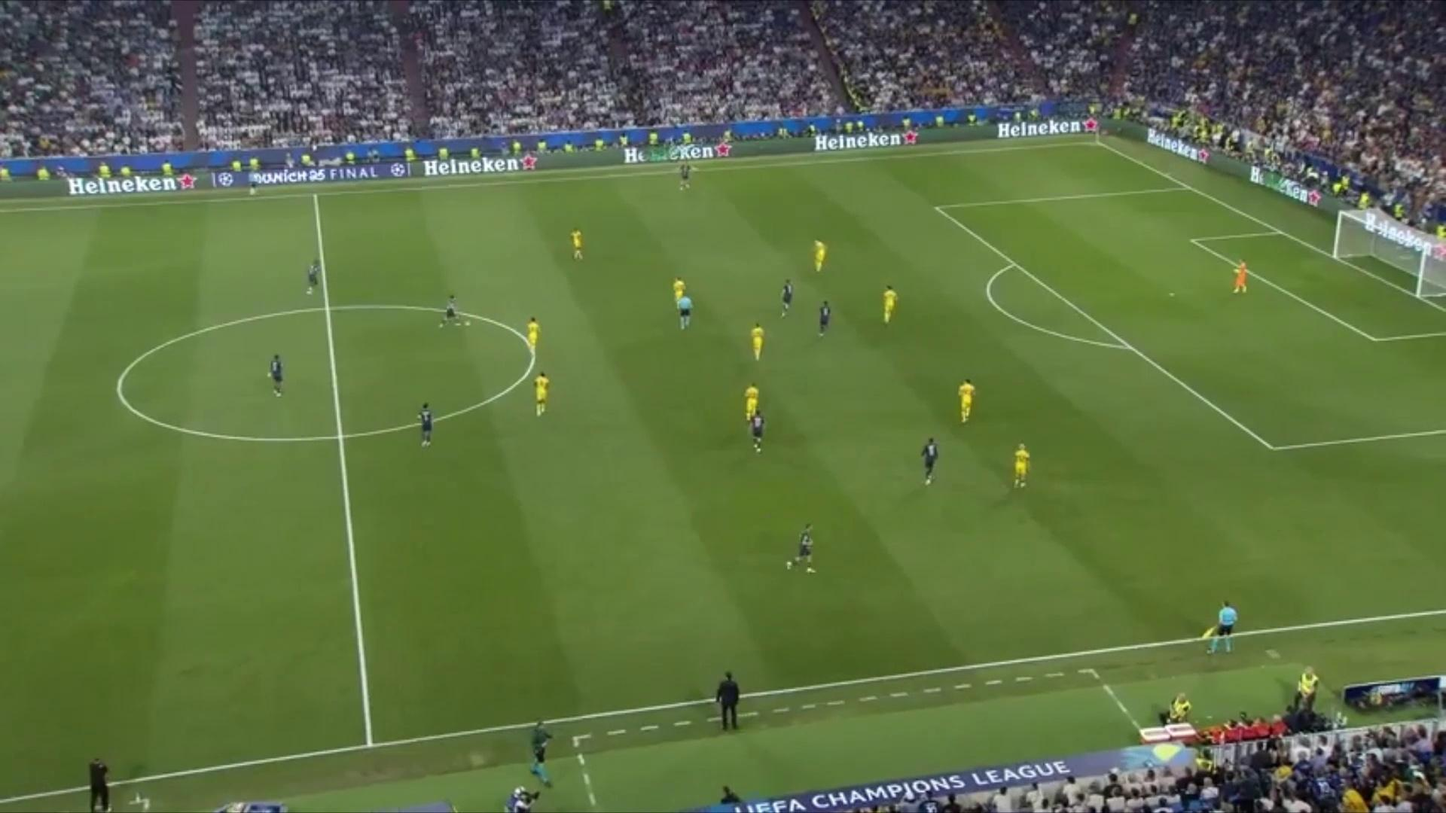ball: (464, 321, 471, 327)
